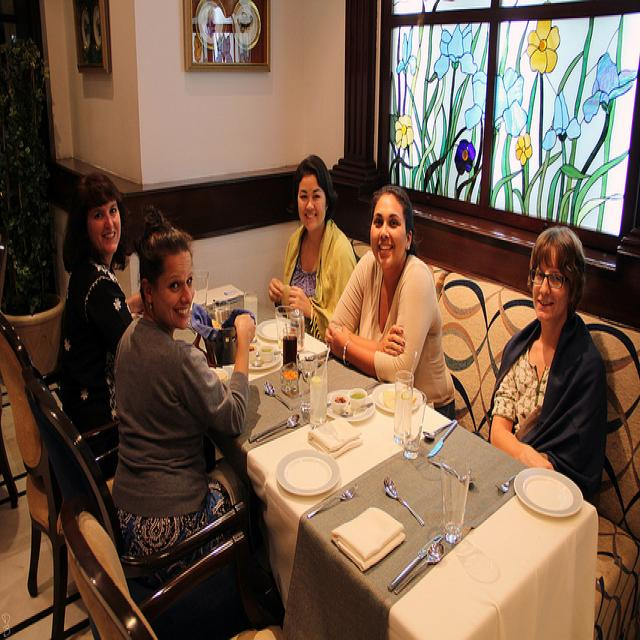chair: (21, 371, 266, 583), (69, 511, 283, 633), (1, 309, 68, 634)
dining table: (183, 282, 601, 640)
